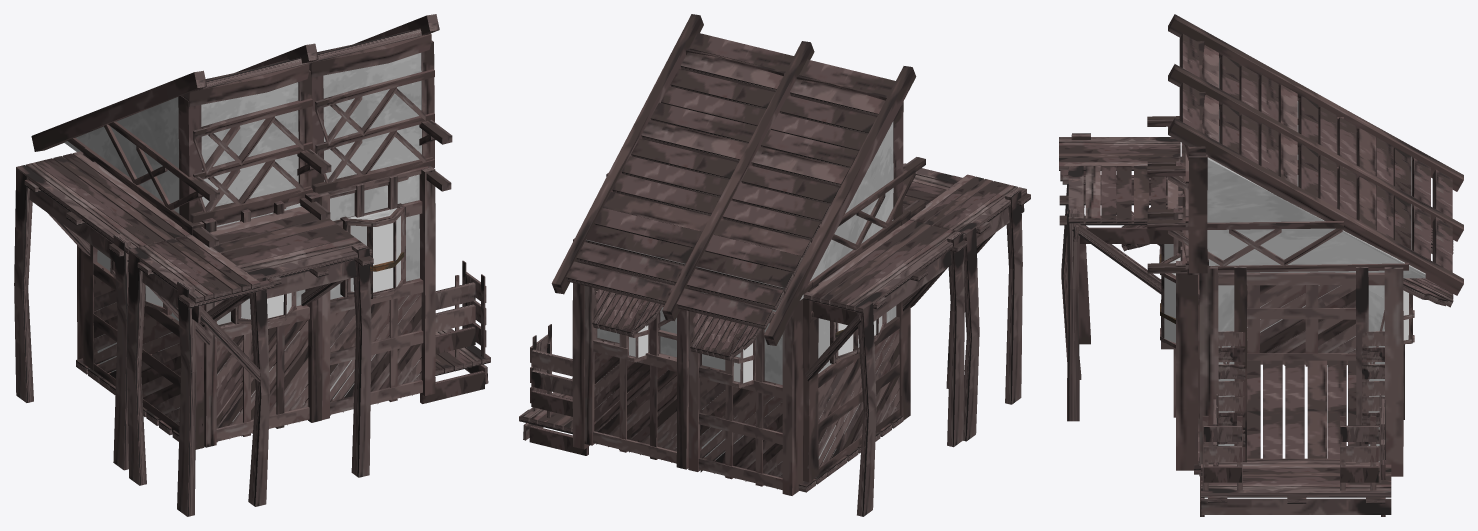
Rendered from House-col.glb.
3 views of the same model, side by side, from view 1: azimuth 30°, elevation 25°; view 2: azimuth 150°, elevation 25°; view 3: azimuth 270°, elevation 25° (orthographic). The views are drawn at different scales.
Visible parts, largest first — view 1: House-col; view 2: House-col; view 3: House-col.
Part boxes in pixels (x1,y1,x2,y2): House-col: (14,14,490,516); House-col: (519,14,1030,516); House-col: (1059,14,1463,516).
Bounding box in the file's own units: 4.24 × 4.24 × 4.24.
Materials: 1 (1 with a texture image).
